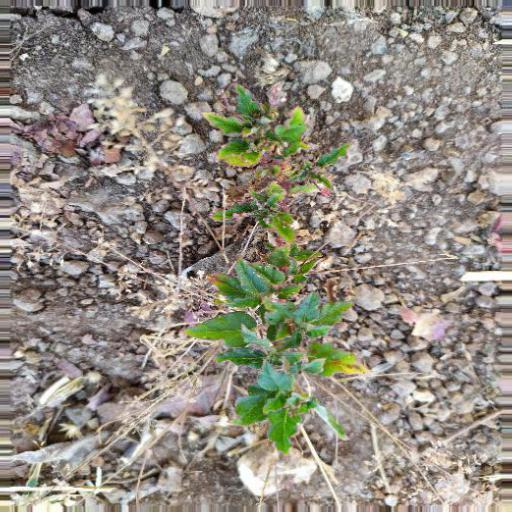weed: (194, 68, 373, 484)
